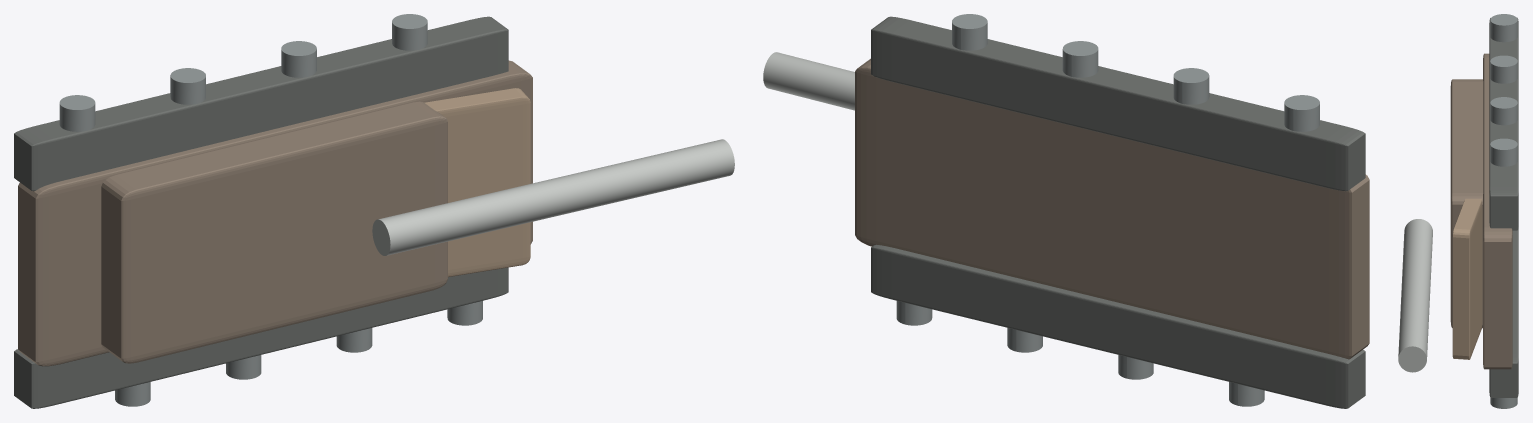
Rendered from d-u14-dominion-tank-destroyer-lod2.glb.
3 views of the same model, side by side, from view 1: azimuth 30°, elevation 25°; view 2: azimuth 150°, elevation 25°; view 3: azimuth 270°, elevation 25° (orthographic). The views are drawn at different scales.
Parts seen in each view (by area): view 1: upper_hull, chassis_track_1, chassis_lower, tank_hunter_barrel_0, chassis_track_-1, chassis_glacis, chassis_roadwheel_1_0, chassis_roadwheel_1_2, chassis_roadwheel_1_4, chassis_roadwheel_1_6, chassis_roadwheel_-1_5, chassis_roadwheel_-1_3 (+2 smaller); view 2: chassis_lower, chassis_track_1, chassis_track_-1, tank_hunter_barrel_0, chassis_roadwheel_1_2, chassis_roadwheel_1_4, chassis_roadwheel_1_0, chassis_roadwheel_1_6, chassis_roadwheel_-1_7, chassis_roadwheel_-1_5, chassis_roadwheel_-1_3, chassis_roadwheel_-1_1; view 3: chassis_lower, upper_hull, chassis_glacis, tank_hunter_barrel_0, chassis_track_1, chassis_track_-1, chassis_roadwheel_1_4, chassis_roadwheel_1_6, chassis_roadwheel_1_0, chassis_roadwheel_1_2, chassis_roadwheel_-1_7.
Boxes of the visible parts, <box> form: upper_hull: <box>101,101,447,363</box>; chassis_track_1: <box>14,16,508,191</box>; chassis_lower: <box>18,60,532,366</box>; tank_hunter_barrel_0: <box>372,139,734,255</box>; chassis_track_-1: <box>14,267,508,408</box>; chassis_glacis: <box>424,88,530,277</box>; chassis_roadwheel_1_0: <box>59,95,95,131</box>; chassis_roadwheel_1_2: <box>170,68,205,104</box>; chassis_roadwheel_1_4: <box>281,41,316,77</box>; chassis_roadwheel_1_6: <box>392,14,427,50</box>; chassis_roadwheel_-1_5: <box>336,328,372,352</box>; chassis_roadwheel_-1_3: <box>226,355,261,379</box>; chassis_lower: <box>855,58,1369,359</box>; chassis_track_1: <box>871,16,1365,191</box>; chassis_track_-1: <box>871,244,1365,408</box>; tank_hunter_barrel_0: <box>763,52,854,110</box>; chassis_roadwheel_1_2: <box>1173,68,1209,104</box>; chassis_roadwheel_1_4: <box>1062,41,1098,77</box>; chassis_roadwheel_1_0: <box>1284,95,1319,131</box>; chassis_roadwheel_1_6: <box>952,14,987,50</box>; chassis_roadwheel_-1_7: <box>896,301,932,325</box>; chassis_roadwheel_-1_5: <box>1007,328,1042,352</box>; chassis_roadwheel_-1_3: <box>1118,355,1153,379</box>; chassis_roadwheel_-1_1: <box>1229,382,1264,406</box>; chassis_lower: <box>1483,53,1512,369</box>; upper_hull: <box>1450,79,1483,328</box>; chassis_glacis: <box>1452,198,1482,359</box>; tank_hunter_barrel_0: <box>1398,219,1432,372</box>; chassis_track_1: <box>1489,17,1518,230</box>; chassis_track_-1: <box>1489,227,1518,397</box>; chassis_roadwheel_1_4: <box>1490,97,1517,125</box>; chassis_roadwheel_1_6: <box>1490,138,1517,166</box>; chassis_roadwheel_1_0: <box>1490,14,1517,42</box>; chassis_roadwheel_1_2: <box>1490,55,1517,83</box>; chassis_roadwheel_-1_7: <box>1490,398,1517,408</box>.
Size of what is drawn, in the model's own units: 9.53 by 4.39 by 2.01.
